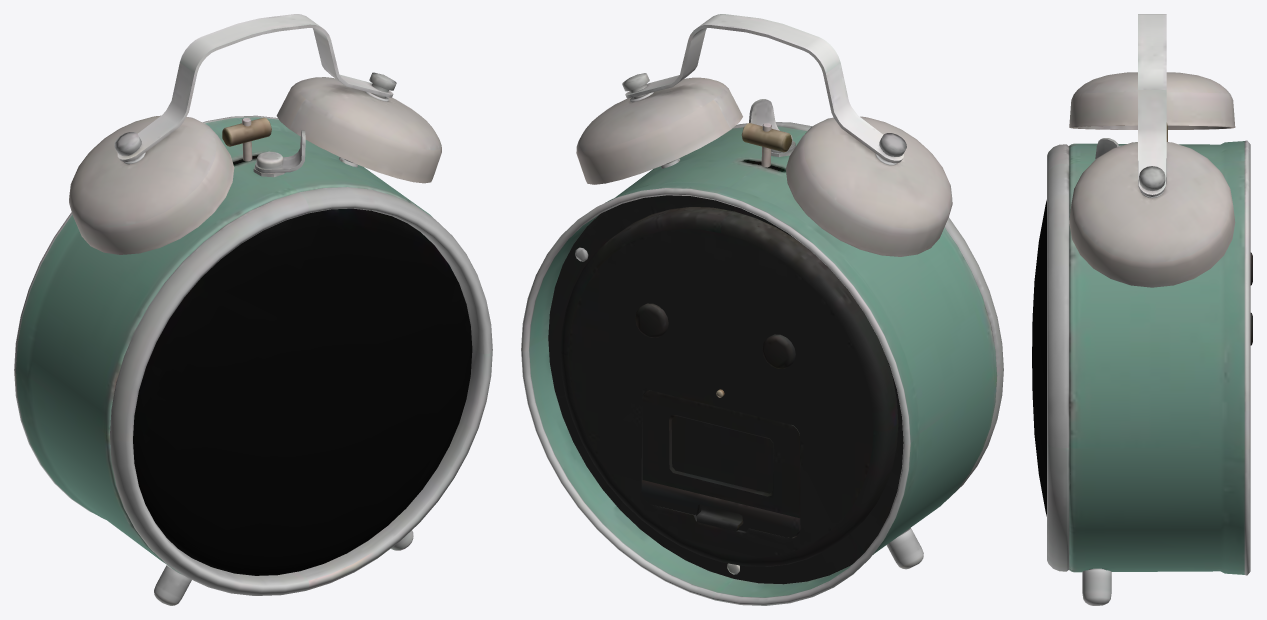
File: alarm_clock_01.glb
3 views of the same model, side by side, from view 1: azimuth 30°, elevation 25°; view 2: azimuth 150°, elevation 25°; view 3: azimuth 270°, elevation 25° (orthographic). The views are drawn at different scales.
Visible parts, largest first — view 1: alarm_clock_01; view 2: alarm_clock_01; view 3: alarm_clock_01.
Boxes of the visible parts, x1,y1,x2,y2 form: alarm_clock_01: [14, 14, 492, 605]; alarm_clock_01: [521, 14, 1003, 605]; alarm_clock_01: [1032, 14, 1252, 605].
Size of the model in its own units: 0.1316 by 0.1741 by 0.0667.
2 materials, 2 textured.
